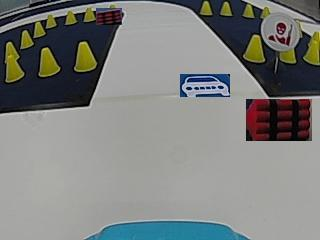evil: (260, 13, 300, 50)
